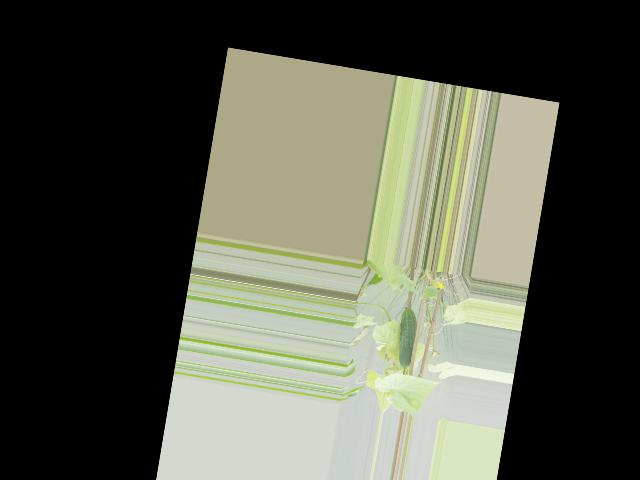cucumber: (393, 306, 420, 368)
